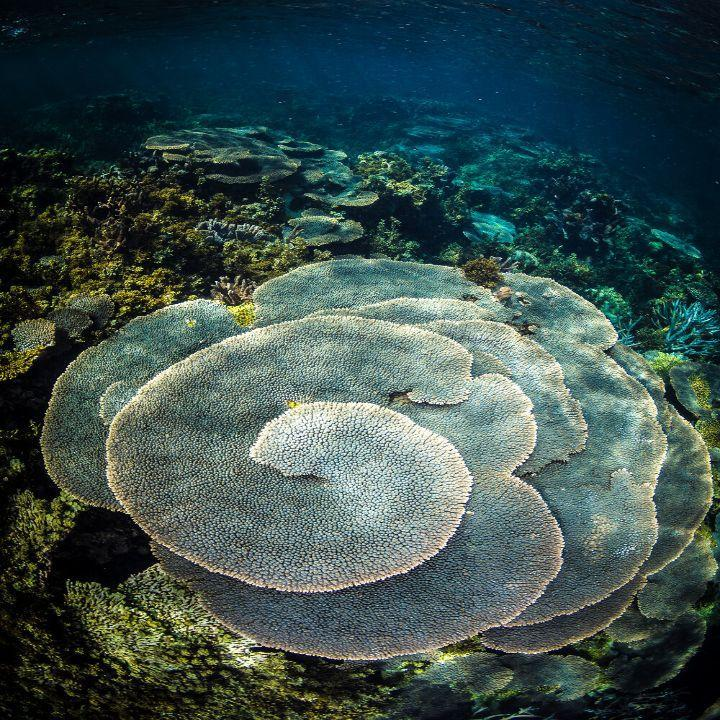Healthy Coral: (5, 131, 717, 715)
